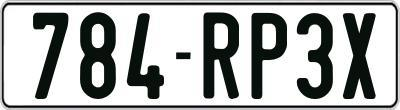3: (297, 10, 337, 100)
4: (125, 11, 163, 97)
7: (30, 10, 65, 100)
8: (80, 10, 121, 97)
P: (252, 10, 290, 102)
R: (204, 10, 239, 100)
X: (343, 11, 380, 99)
